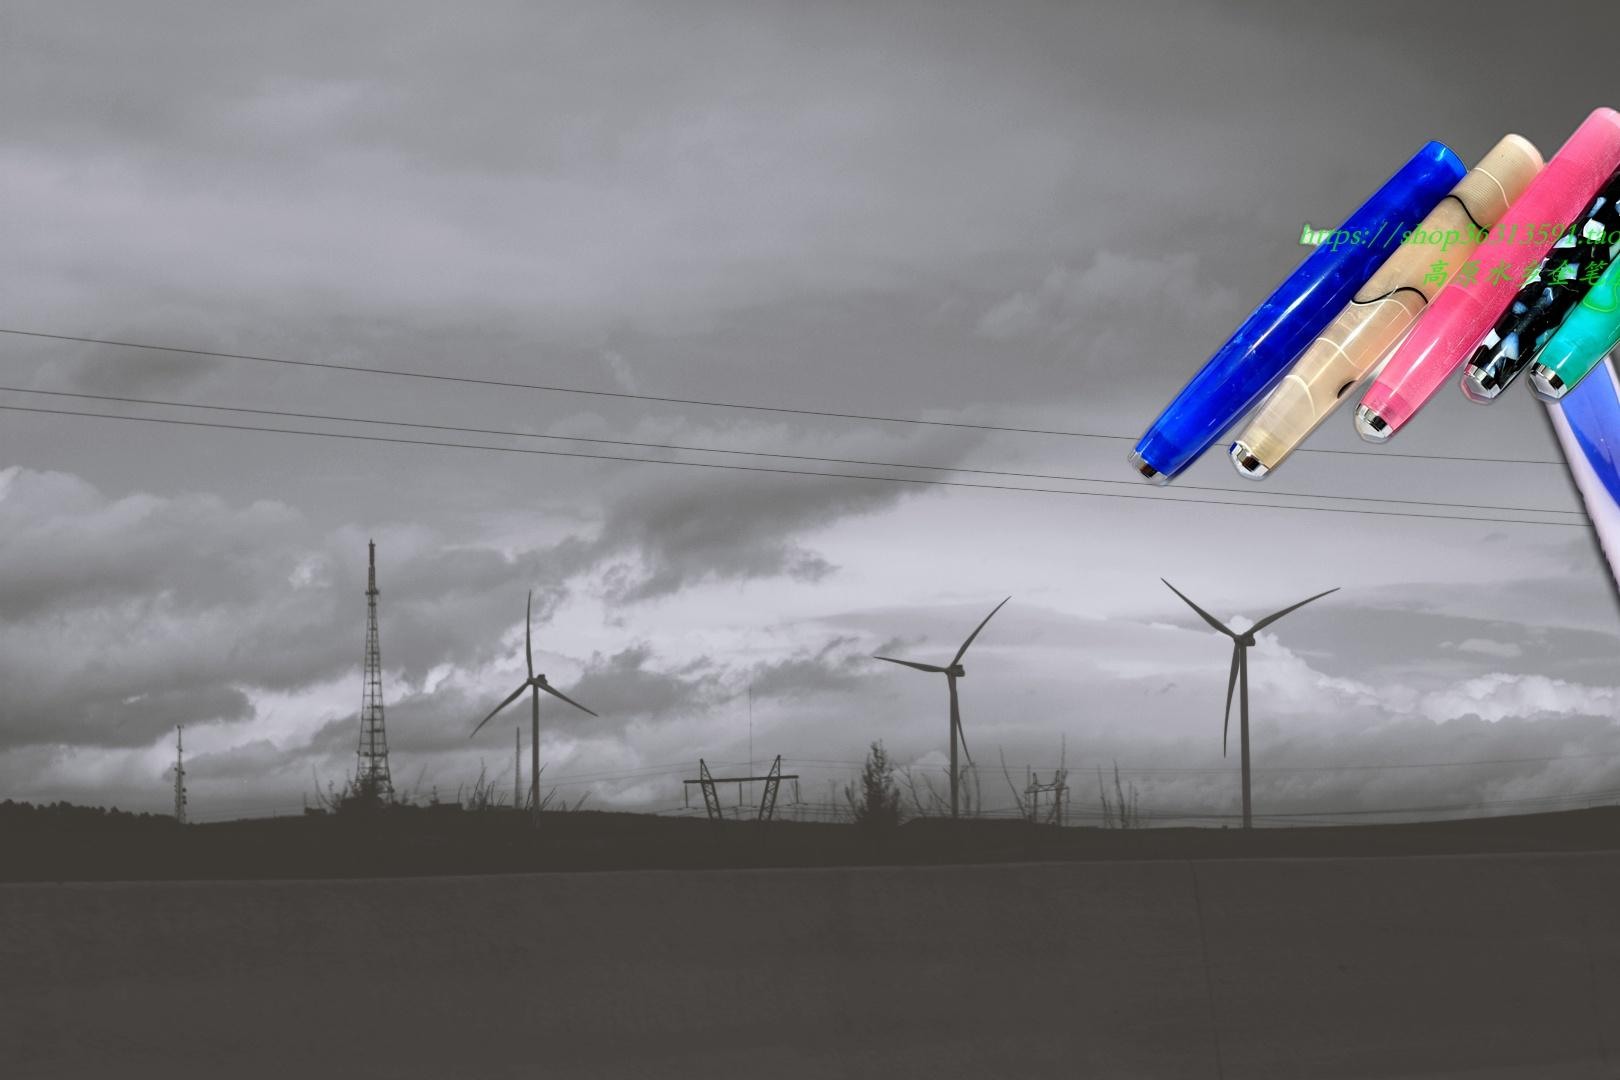penholder: (1121, 81, 1620, 492), (1472, 128, 1620, 1080)
